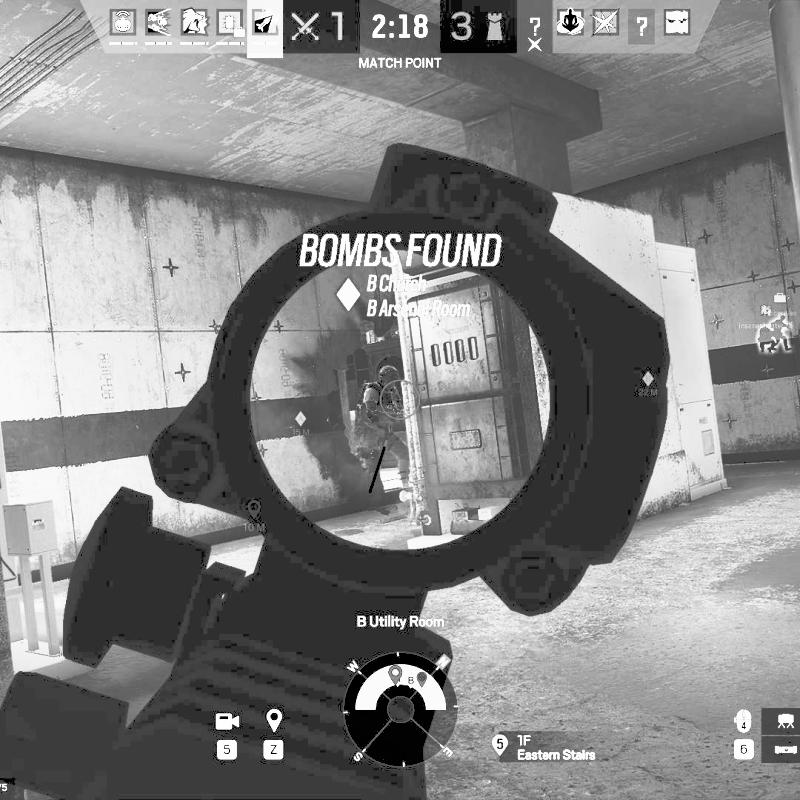Character: (354, 363, 414, 492)
Friend_label: (739, 304, 782, 330), (766, 292, 798, 316)
Head: (377, 364, 401, 388)
